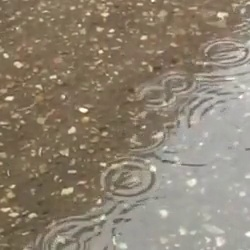drop: (36, 216, 111, 250), (102, 157, 157, 199), (119, 116, 167, 154), (205, 41, 249, 67), (137, 84, 176, 109), (158, 71, 195, 95), (1, 88, 35, 111), (203, 10, 223, 24)
